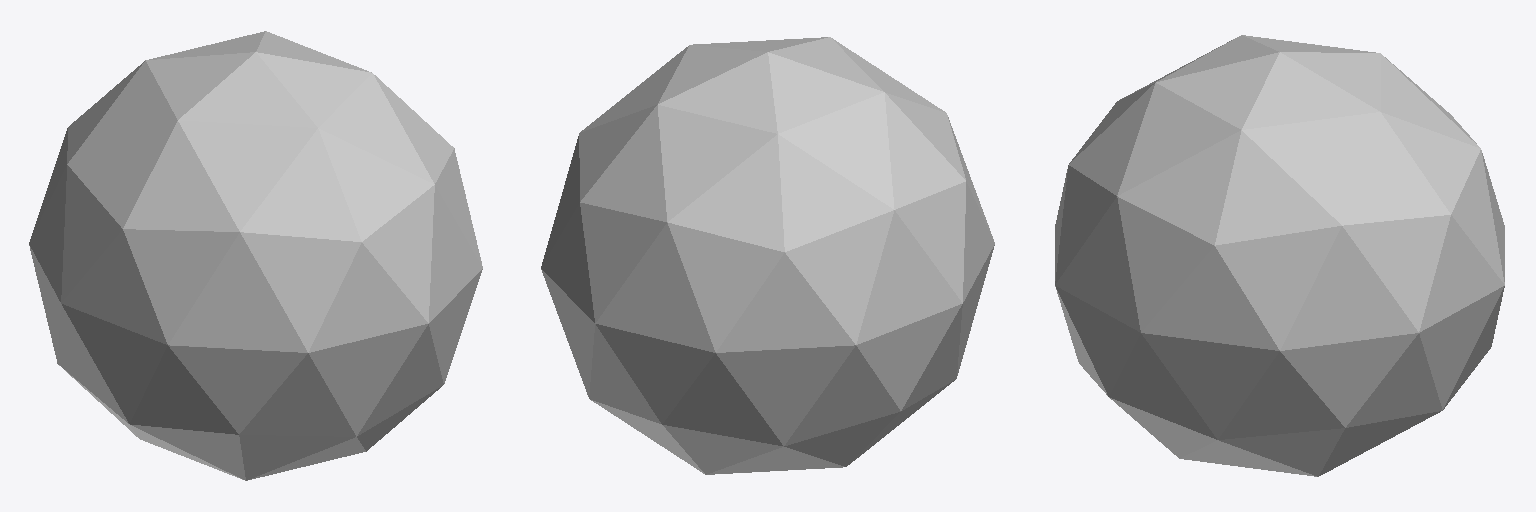
The picture shows the model from 3 angles: view 1: azimuth 30°, elevation 25°; view 2: azimuth 150°, elevation 25°; view 3: azimuth 270°, elevation 25°; orthographic projection.
Visible parts, largest first — view 1: ICO球; view 2: ICO球; view 3: ICO球.
Boxes of the visible parts, box(x1,y1,x2,y2) form: ICO球: box(29, 31, 482, 480); ICO球: box(541, 37, 994, 474); ICO球: box(1055, 35, 1504, 476).
Size of the model in its own units: 1 by 1 by 1.